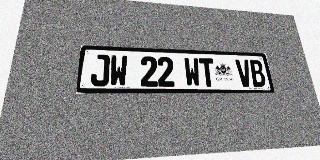2: (141, 56, 158, 87), (157, 57, 174, 87)
B: (248, 60, 267, 87)
J: (90, 54, 110, 86)
T: (199, 58, 216, 87)
V: (235, 59, 253, 87)
W: (109, 55, 127, 86), (184, 57, 201, 87)
